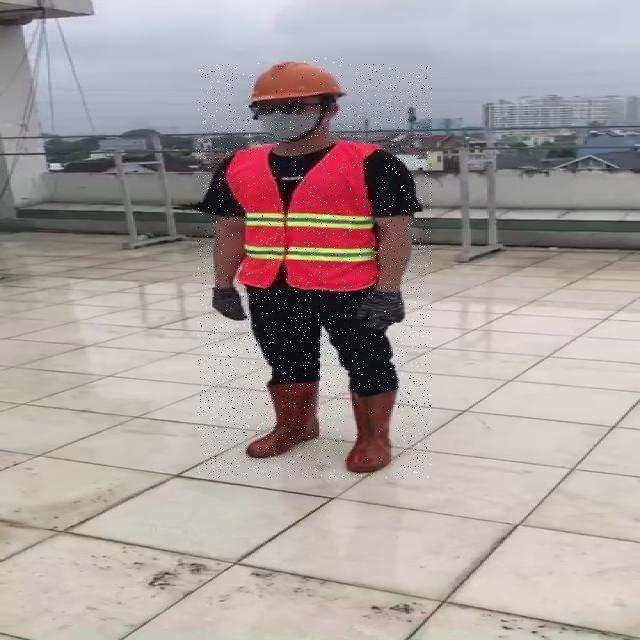boots: (246, 381, 324, 460), (342, 390, 398, 473)
helmet: (238, 58, 354, 105)
vest: (224, 138, 380, 290)
